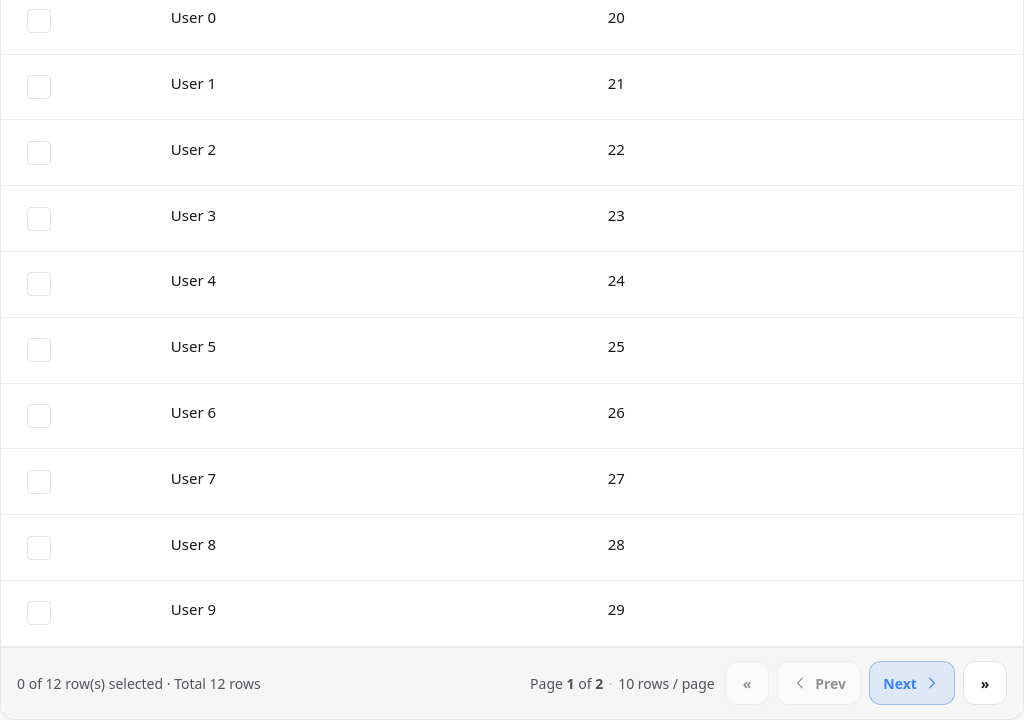
Test: EditableTable › shows pagination controls when pagination is enabled
(page scrolled)
Expected: the navigation bar named "Table pagination" is shown, [530, 661, 1007, 705]
Click the button with aria-label "Next page".
click(912, 683)  # box [869, 661, 955, 705]
(page scrolled)
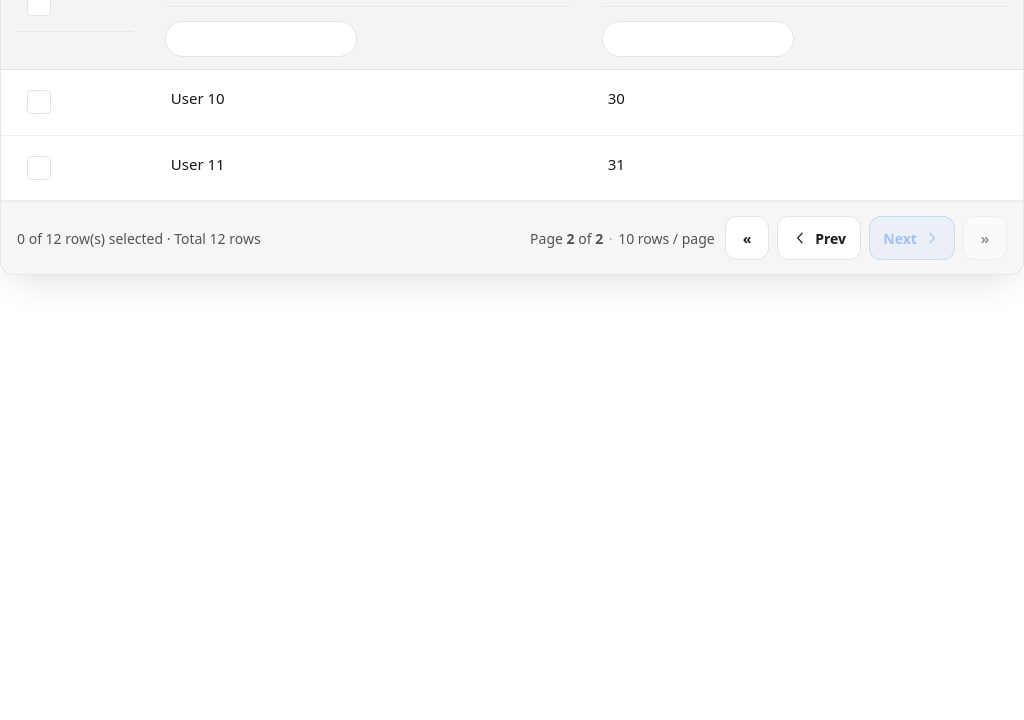
Result: the text "User 10" is shown at [171, 88, 225, 108]
